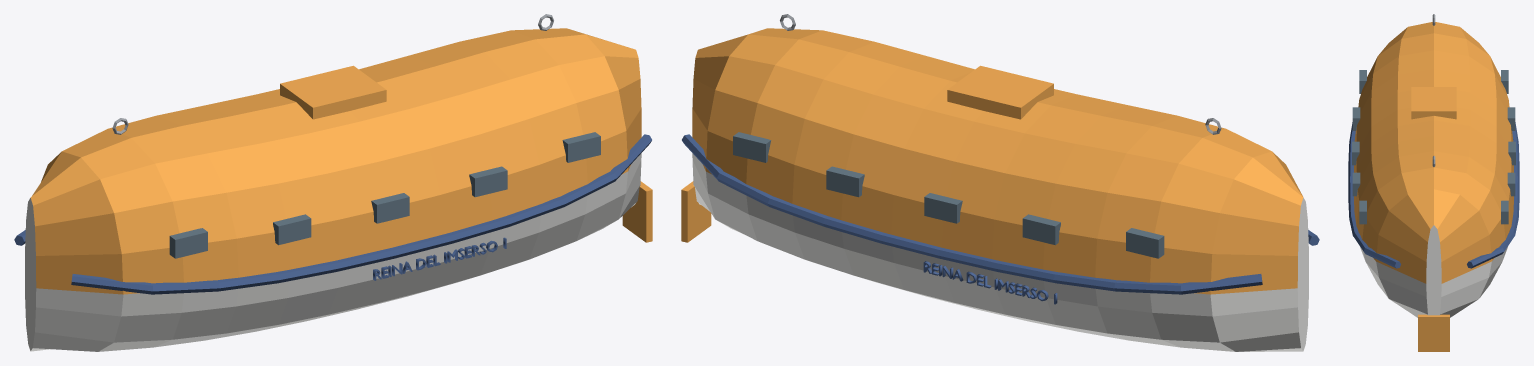
File: CR_BoteSalvavidas.fbx
3 views of the same model, side by side, from view 1: azimuth 30°, elevation 25°; view 2: azimuth 150°, elevation 25°; view 3: azimuth 270°, elevation 25° (orthographic). The views are drawn at different scales.
Visible parts, largest first — view 1: CR_BoteSalvavidas; view 2: CR_BoteSalvavidas; view 3: CR_BoteSalvavidas.
Boxes of the visible parts, bbox=[...] form: CR_BoteSalvavidas: bbox=[14, 14, 652, 351]; CR_BoteSalvavidas: bbox=[681, 14, 1319, 351]; CR_BoteSalvavidas: bbox=[1348, 14, 1519, 351].
Bounding box in the file's own units: 7.46 × 2.82 × 2.66.
